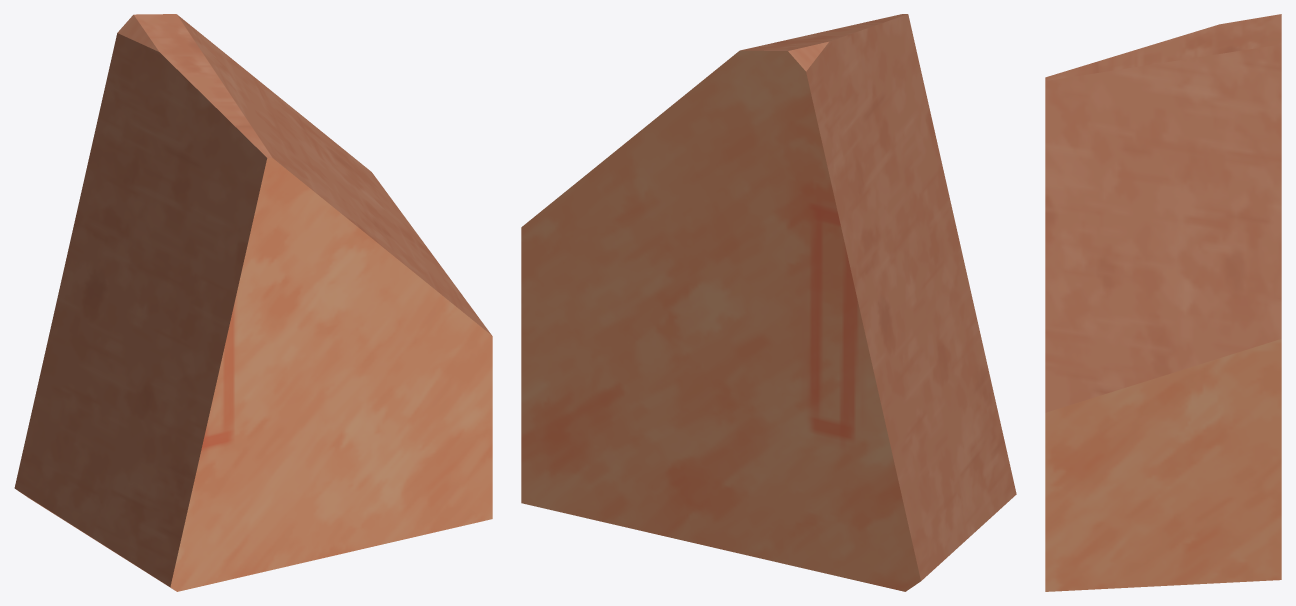
File: townwall_s06.fbx
3 renders of one model, left to right at view 1: azimuth 30°, elevation 25°; view 2: azimuth 150°, elevation 25°; view 3: azimuth 270°, elevation 25°, orthographic. The views are drawn at different scales.
Visible parts, largest first — view 1: townwall_s06; view 2: townwall_s06; view 3: townwall_s06.
Part boxes in pixels (left/top/right/bottom): townwall_s06: left=14, top=14, right=492, bottom=591; townwall_s06: left=521, top=14, right=1016, bottom=591; townwall_s06: left=1045, top=14, right=1281, bottom=591.
Size of the model in its own units: 5.13 by 6.51 by 3.
